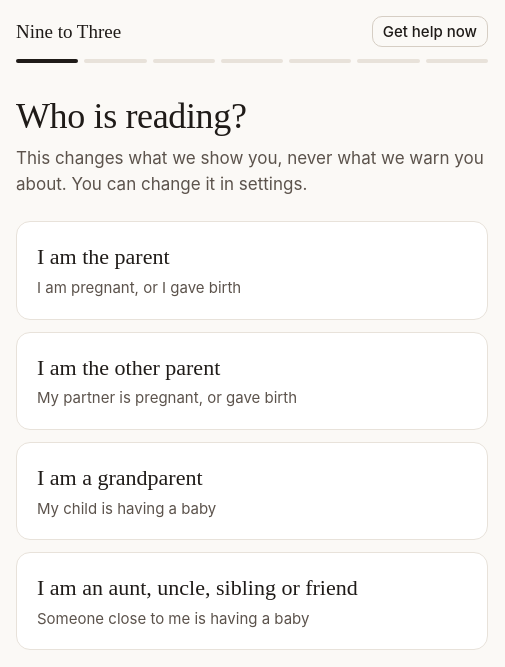
Test: OnboardingFlow, reading as someone else › asks a grandparent in their own words
The width and height of the screenshot is (505, 667).
Click the button "I am a grandparent My child is having a baby" at (120, 477), box [16,442,488,540]
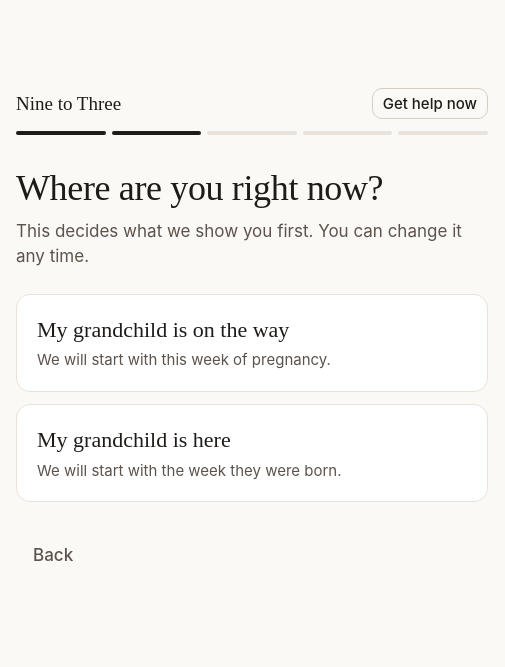
Check: the button "My grandchild is on the way" is shown, box [16,294,488,392]
Check: the button "My grandchild is here" is shown, box [16,404,488,502]
Check: the button "I am pregnant" is gone
